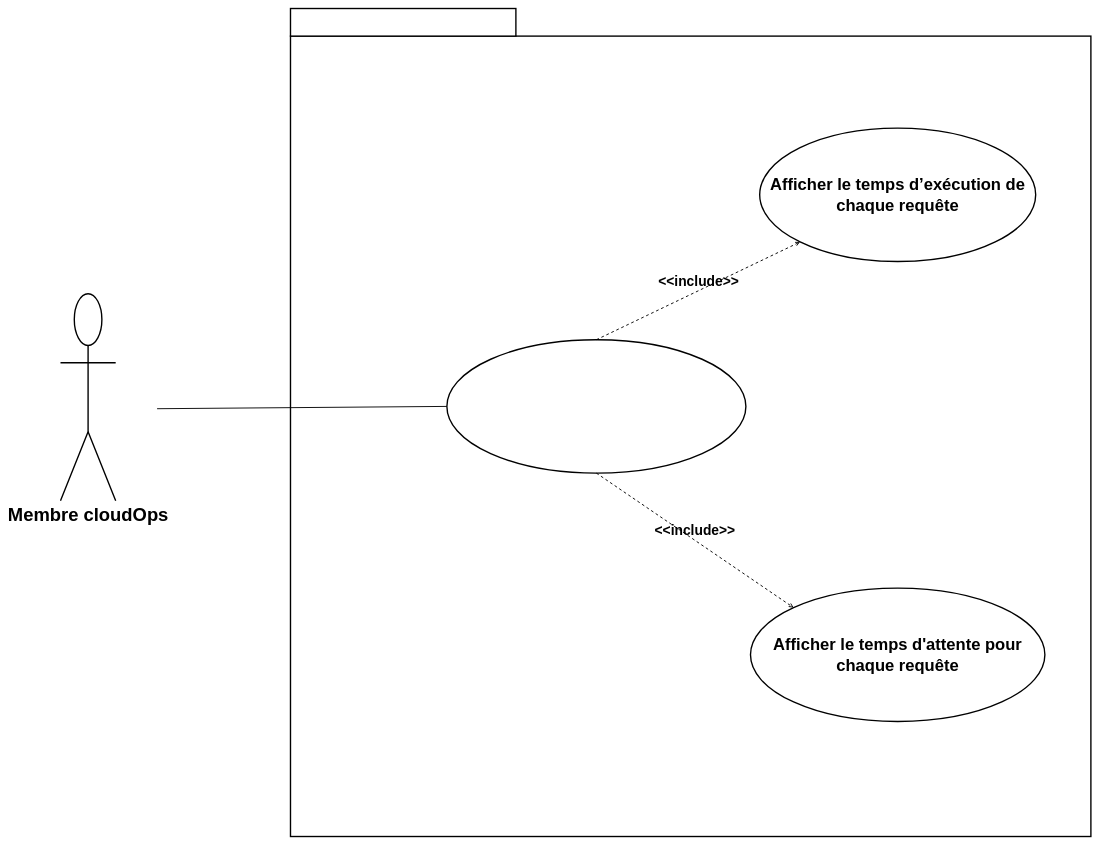
Some shapes in this 1099 by 845 pixel diagram are drawn without their labels. Here are the shapes that lost their labels. From the top down, the centre of each, then its label:
At (403,22): "Simulateur de la queue".
At (596,406): "Afficher les informations des requêtes".
